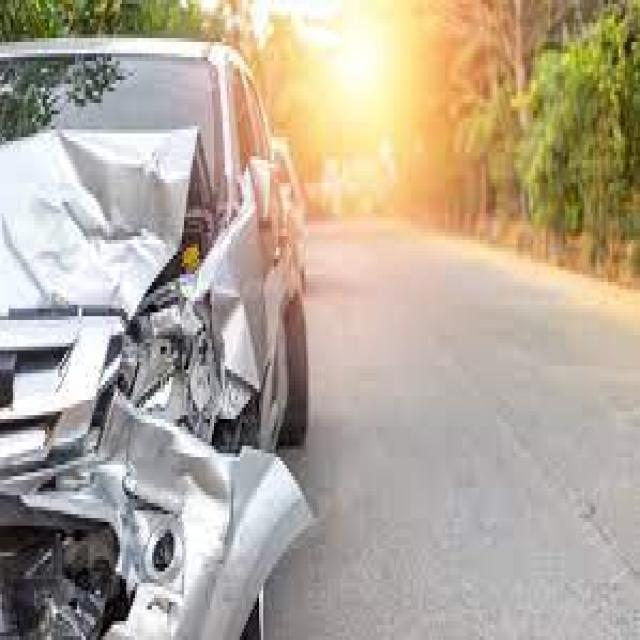accident: (8, 62, 321, 618)
